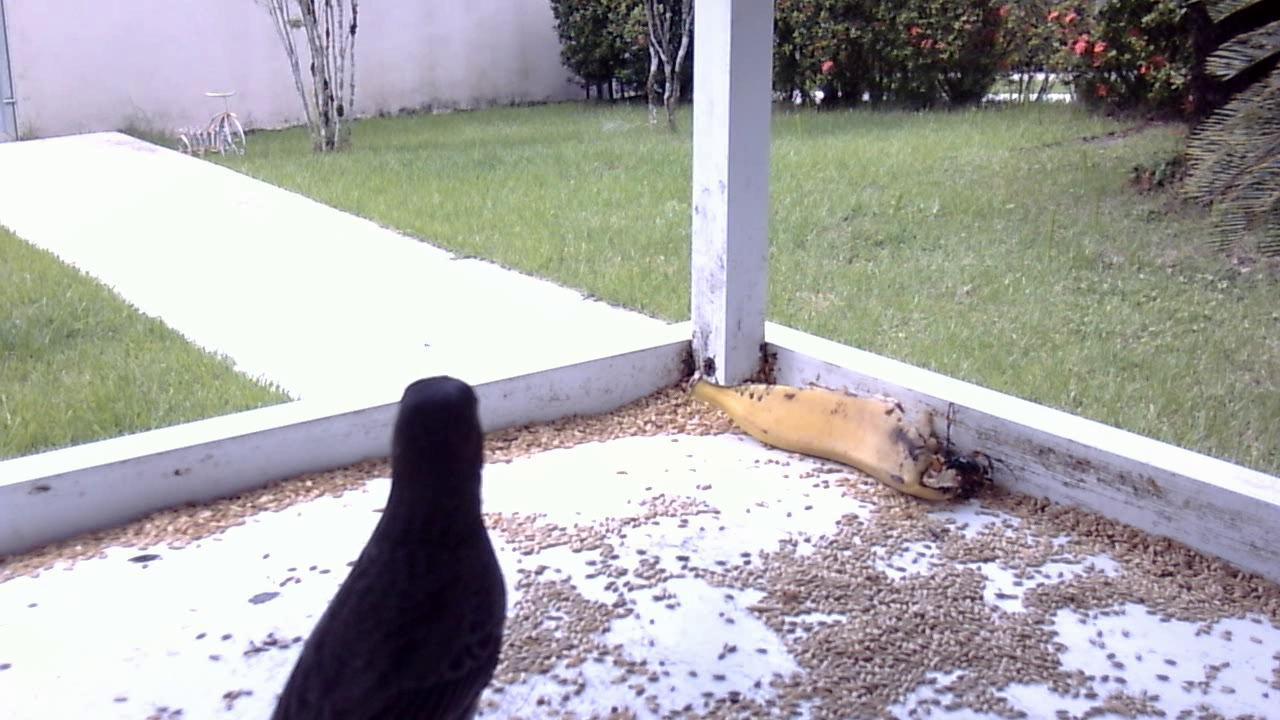chupim: (250, 352, 526, 712)
